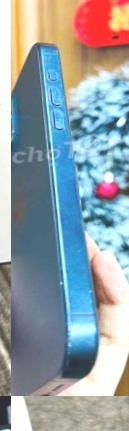scratch: (65, 338, 72, 352), (86, 288, 95, 295), (58, 277, 64, 285), (76, 246, 82, 253)
